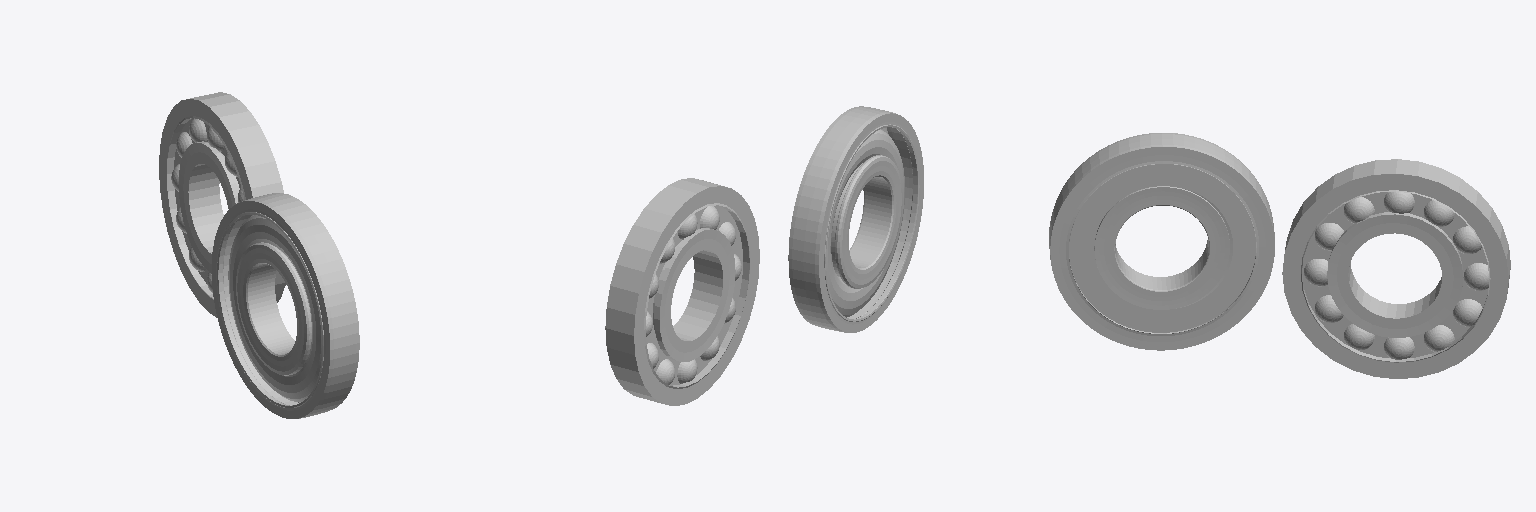
The model's file is Ball Bearing Rig.obj.
3 views of the same model, side by side, from view 1: azimuth 30°, elevation 25°; view 2: azimuth 150°, elevation 25°; view 3: azimuth 270°, elevation 25° (orthographic).
Parts seen in each view (by area): view 1: Circle.012_Circle.008, Circle.011_Circle.005, Circle.013_Circle.009, Circle.014_Circle.010, Circle.010_Circle.006, Sphere.003_Sphere.001; view 2: Circle.011_Circle.005, Circle.012_Circle.008, Circle.010_Circle.006, Circle.013_Circle.009, Circle.014_Circle.010, Sphere.003_Sphere.001, Circle.009_Circle.007; view 3: Circle.011_Circle.005, Circle.012_Circle.008, Circle.014_Circle.010, Circle.010_Circle.006, Circle.013_Circle.009, Sphere.003_Sphere.001, Circle.009_Circle.007.
Part boxes in pixels (x1,y1,x2,y2): Circle.012_Circle.008: (212, 193, 359, 418); Circle.011_Circle.005: (159, 92, 285, 317); Circle.013_Circle.009: (236, 242, 311, 375); Circle.014_Circle.010: (228, 215, 321, 402); Circle.010_Circle.006: (179, 141, 239, 273); Sphere.003_Sphere.001: (171, 118, 244, 292); Circle.011_Circle.005: (605, 178, 759, 405); Circle.012_Circle.008: (788, 106, 923, 332); Circle.010_Circle.006: (653, 228, 735, 361); Circle.013_Circle.009: (831, 155, 902, 288); Circle.014_Circle.010: (826, 129, 904, 317); Sphere.003_Sphere.001: (646, 206, 741, 384); Circle.009_Circle.007: (646, 205, 742, 385); Circle.011_Circle.005: (1282, 159, 1510, 378); Circle.012_Circle.008: (1049, 133, 1274, 350); Circle.014_Circle.010: (1069, 164, 1255, 332); Circle.010_Circle.006: (1327, 212, 1463, 337); Circle.013_Circle.009: (1094, 186, 1229, 309); Sphere.003_Sphere.001: (1304, 192, 1488, 359); Circle.009_Circle.007: (1302, 192, 1487, 357).
Bounding box in the file's own units: 3.92 × 8 × 16.29.